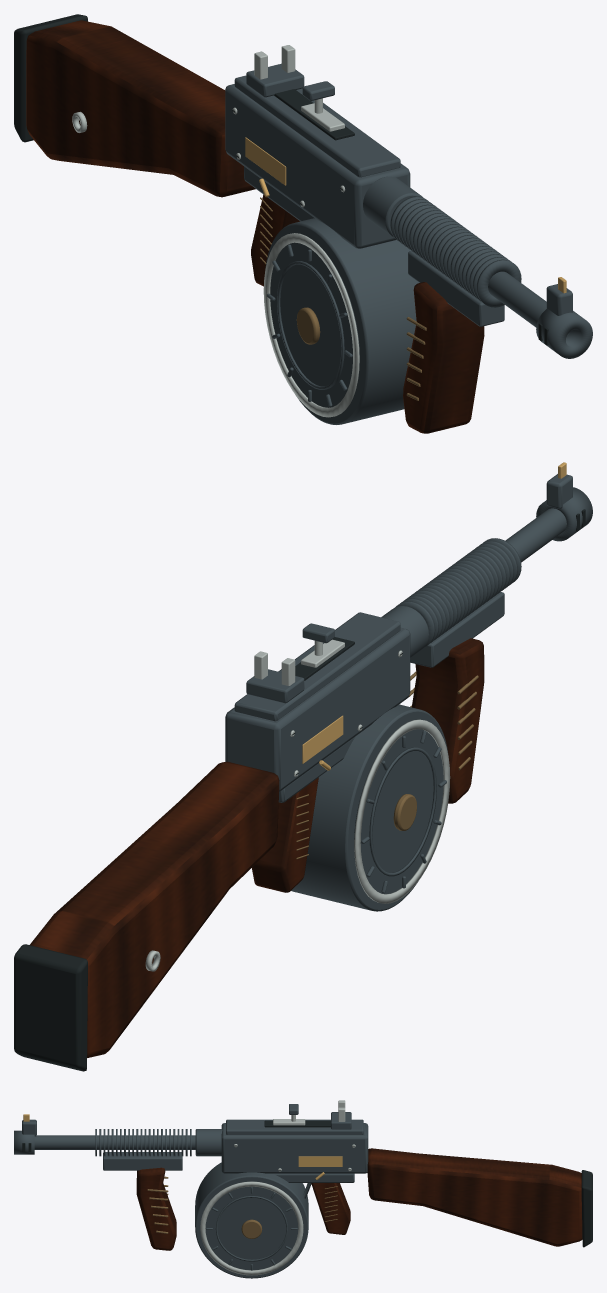
Rendered from tommy.glb.
3 views of the same model, one above another, from view 1: azimuth 30°, elevation 25°; view 2: azimuth 150°, elevation 25°; view 3: azimuth 270°, elevation 25° (orthographic). The views are drawn at different scales.
Visible parts, largest first — view 1: Static | Walnut | original longitudinal grain.011, Static | Brushed blued steel.011, Magazine | Brushed blued steel.011, Magazine | Polished stainless details.011, Static | Ebony and deep recesses.011, Static | Polished stainless details.011, Static | Aged champagne brass.011, Magazine | Dark patinated bronze.011, Bolt | Polished stainless details.011, Static | Dark patinated bronze.011; view 2: Static | Walnut | original longitudinal grain.011, Static | Brushed blued steel.011, Magazine | Brushed blued steel.011, Static | Ebony and deep recesses.011, Magazine | Polished stainless details.011, Static | Polished stainless details.011, Static | Aged champagne brass.011; view 3: Static | Walnut | original longitudinal grain.011, Static | Brushed blued steel.011, Magazine | Brushed blued steel.011, Magazine | Polished stainless details.011, Static | Ebony and deep recesses.011, Static | Aged champagne brass.011, Static | Dark patinated bronze.011, Magazine | Dark patinated bronze.011.
Part boxes in pixels (<box>): Static | Walnut | original longitudinal grain.011: <box>26,20,484,433</box>; Static | Brushed blued steel.011: <box>225,63,592,358</box>; Magazine | Brushed blued steel.011: <box>265,218,419,424</box>; Magazine | Polished stainless details.011: <box>263,233,359,417</box>; Static | Ebony and deep recesses.011: <box>14,14,548,345</box>; Static | Polished stainless details.011: <box>72,45,345,207</box>; Static | Aged champagne brass.011: <box>245,137,566,293</box>; Magazine | Dark patinated bronze.011: <box>296,307,320,344</box>; Bolt | Polished stainless details.011: <box>301,98,344,131</box>; Static | Dark patinated bronze.011: <box>260,197,426,400</box>; Static | Walnut | original longitudinal grain.011: <box>30,638,484,1057</box>; Static | Brushed blued steel.011: <box>225,474,592,802</box>; Magazine | Brushed blued steel.011: <box>291,704,448,911</box>; Static | Ebony and deep recesses.011: <box>14,506,585,1071</box>; Magazine | Polished stainless details.011: <box>354,719,450,903</box>; Static | Polished stainless details.011: <box>145,650,402,971</box>; Static | Aged champagne brass.011: <box>302,462,566,770</box>; Static | Walnut | original longitudinal grain.011: <box>136,1148,582,1250</box>; Static | Brushed blued steel.011: <box>14,1112,368,1198</box>; Magazine | Brushed blued steel.011: <box>195,1162,308,1278</box>; Magazine | Polished stainless details.011: <box>200,1181,303,1275</box>; Static | Ebony and deep recesses.011: <box>22,1120,592,1247</box>; Static | Aged champagne brass.011: <box>23,1114,342,1179</box>; Static | Dark patinated bronze.011: <box>147,1176,337,1233</box>; Magazine | Dark patinated bronze.011: <box>241,1219,262,1238</box>.
Bounding box in the file's own units: 0.114 × 0.3135 × 1.01.
Materials: 6 (1 with a texture image).
